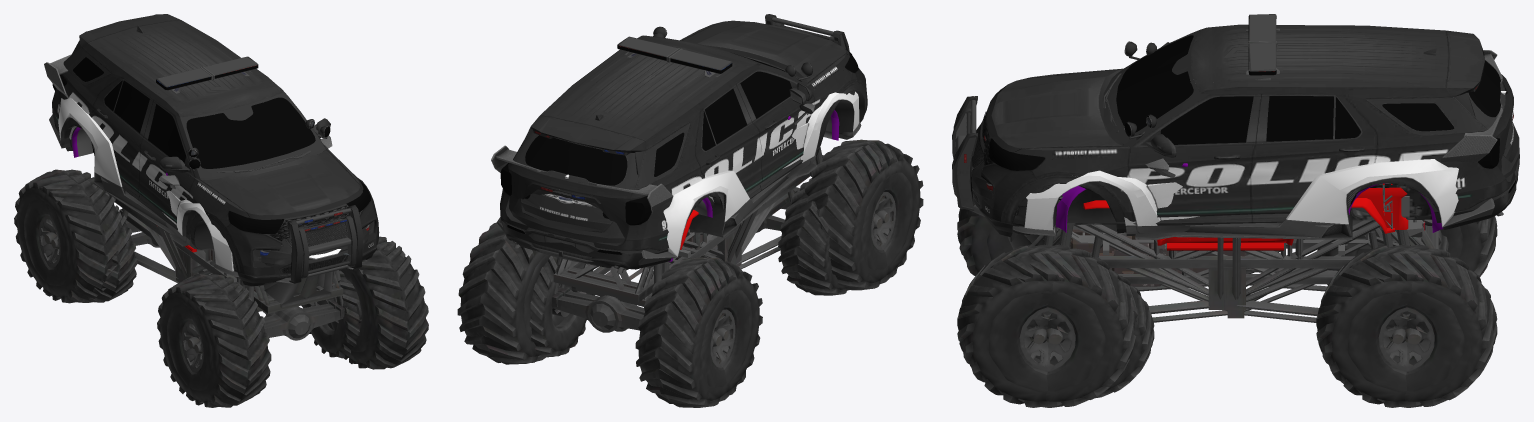
File: traffic-pack-4.glb
3 views of the same model, side by side, from view 1: azimuth 30°, elevation 25°; view 2: azimuth 150°, elevation 25°; view 3: azimuth 270°, elevation 25° (orthographic). The views are drawn at different scales.
Visible parts, largest first — view 1: Door_FL_3_Textures_Body_1_1_0, FR_68_monster_truck_low_0, door_FR (×2), FR_71_monster_truck_low_0, FR_69_monster_truck_low_0, Door_FL_3_Textures_Body_2_2_0, Back_glass_mirror_0, BODY_4_monster_truck_low_0, door_RR, boot, Body1_1_body_3_0, FR_82_monster_truck_low_0 (+19 smaller); view 2: boot (×2), Door_FL_3_Textures_Body_1_1_0, FR_90_monster_truck_low_0, door_FR (×2), FR_87_monster_truck_low_0, FR_89_monster_truck_low_0, door_RR, BODY_7_monster_truck_low_0, FR_81_monster_truck_low_0, Door_FL_3_Textures_Body_2_2_0, FR_71_monster_truck_low_0, FR_68_monster_truck_low_0 (+17 smaller); view 3: Door_FL_3_Textures_Body_1_1_0, door_FL (×2), door_RL, boot (×2), FR_70_monster_truck_low_0, FR_69_monster_truck_low_0, FR_89_monster_truck_low_0, FR_88_monster_truck_low_0, Door_FL_3_Textures_Body_2_2_0, Body1_1_body_3_0, BODY_4_monster_truck_low_0, Back_glass_mirror_0 (+20 smaller).
Part boxes in pixels (box(x1,y1,x2,y2)): Door_FL_3_Textures_Body_1_1_0: box(52, 32, 379, 275); FR_68_monster_truck_low_0: box(167, 279, 271, 407); door_FR (×2): box(101, 96, 216, 246); FR_71_monster_truck_low_0: box(24, 174, 128, 303); FR_69_monster_truck_low_0: box(331, 241, 428, 369); Door_FL_3_Textures_Body_2_2_0: box(54, 96, 377, 288); Back_glass_mirror_0: box(52, 62, 371, 234); BODY_4_monster_truck_low_0: box(109, 195, 347, 340); door_RR: box(78, 53, 154, 195); boot: box(60, 14, 200, 87); Body1_1_body_3_0: box(58, 97, 234, 271); FR_82_monster_truck_low_0: box(301, 270, 361, 358); boot (×2): box(502, 98, 682, 244); Door_FL_3_Textures_Body_1_1_0: box(500, 20, 867, 250); FR_90_monster_truck_low_0: box(635, 265, 748, 407); door_FR (×2): box(727, 60, 826, 229); FR_87_monster_truck_low_0: box(804, 147, 908, 290); FR_89_monster_truck_low_0: box(457, 223, 570, 364); door_RR: box(662, 81, 755, 202); BODY_7_monster_truck_low_0: box(551, 161, 814, 332); FR_81_monster_truck_low_0: box(778, 178, 848, 295); Door_FL_3_Textures_Body_2_2_0: box(500, 14, 866, 273); FR_71_monster_truck_low_0: box(669, 257, 762, 400); FR_68_monster_truck_low_0: box(827, 139, 923, 283); Door_FL_3_Textures_Body_1_1_0: box(981, 24, 1519, 222); door_FL (×2): box(1110, 82, 1328, 239); door_RL: box(1266, 83, 1400, 222); boot (×2): box(1400, 27, 1519, 178); FR_70_monster_truck_low_0: box(1316, 244, 1464, 407); FR_69_monster_truck_low_0: box(957, 244, 1105, 407); FR_89_monster_truck_low_0: box(1359, 244, 1497, 407); FR_88_monster_truck_low_0: box(1000, 244, 1135, 407); Door_FL_3_Textures_Body_2_2_0: box(953, 36, 1518, 241); Body1_1_body_3_0: box(1024, 91, 1506, 230); BODY_4_monster_truck_low_0: box(1007, 220, 1421, 315); Back_glass_mirror_0: box(989, 15, 1515, 192).
Size of the model in its own units: 88.98 by 101 by 168.
22 materials, 17 textured.
